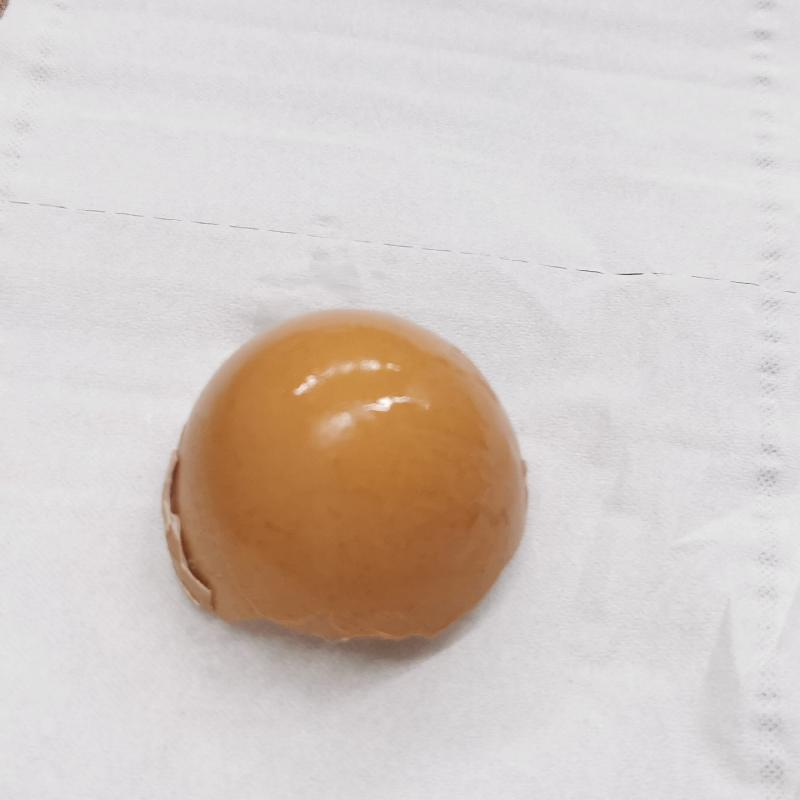eggshell: (162, 307, 534, 646)
